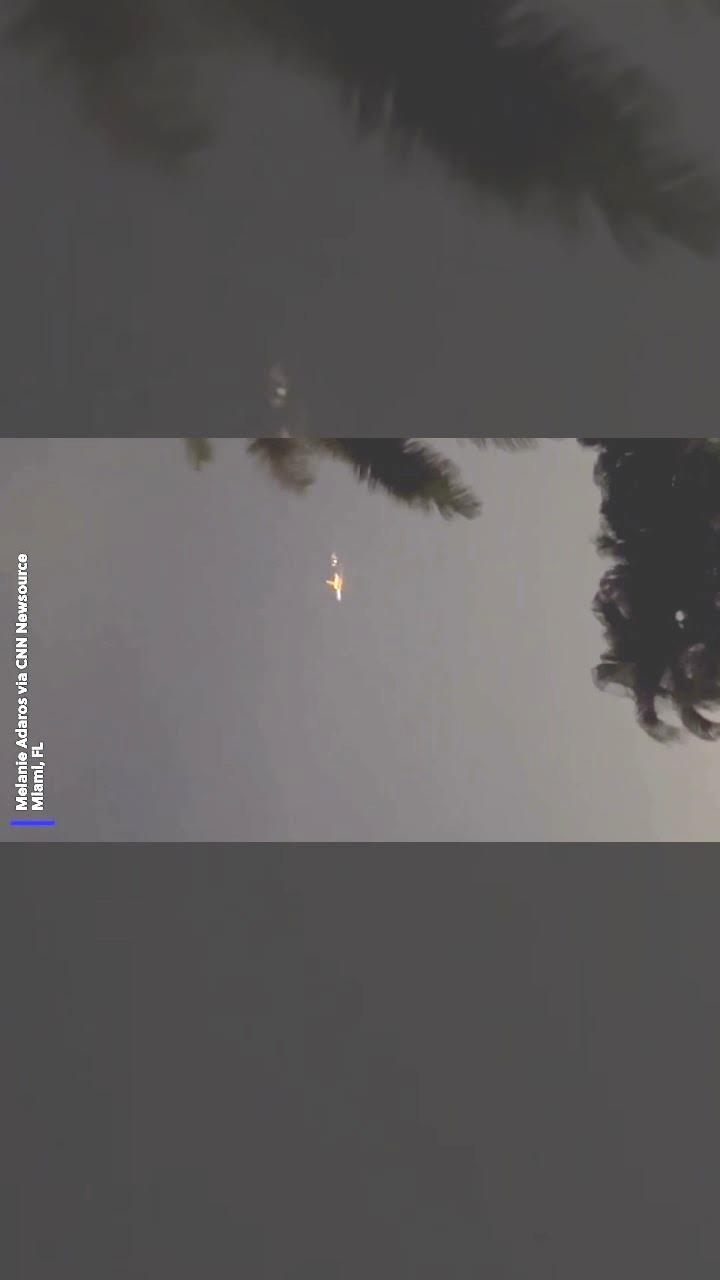Plane: (310, 543, 352, 623)
